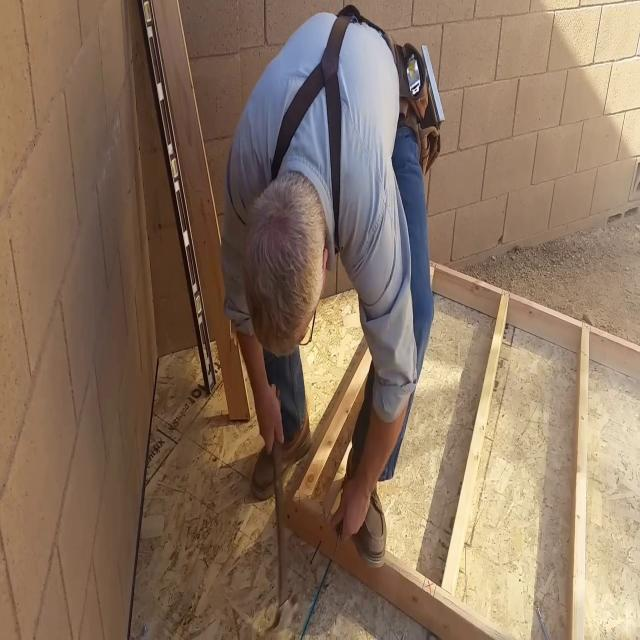hammer: (263, 382, 299, 635)
